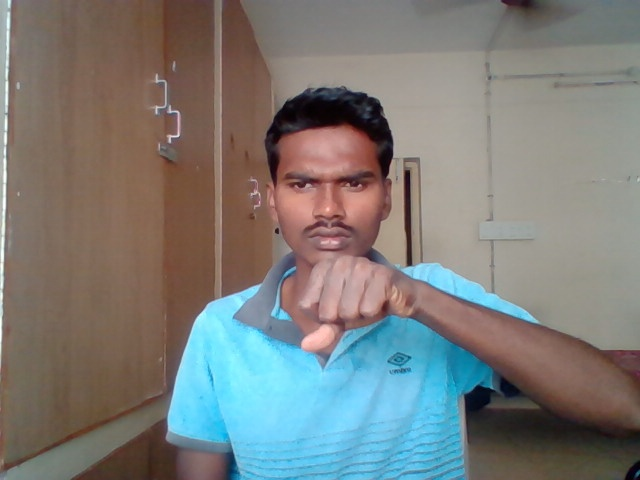Thank You: (296, 256, 413, 353)
